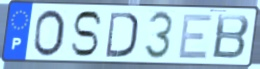3: (142, 9, 175, 62)
B: (210, 13, 251, 61)
D: (104, 11, 139, 59)
E: (176, 13, 214, 61)
O: (31, 9, 67, 59)
S: (68, 9, 104, 59)
